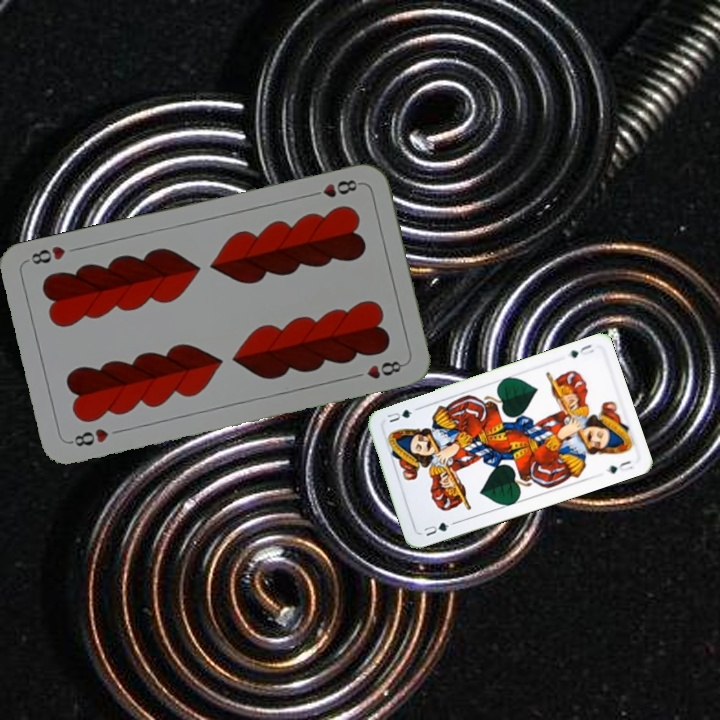GU: (420, 518, 458, 539), (566, 340, 596, 361)
H8: (306, 175, 364, 200), (66, 424, 112, 449)
